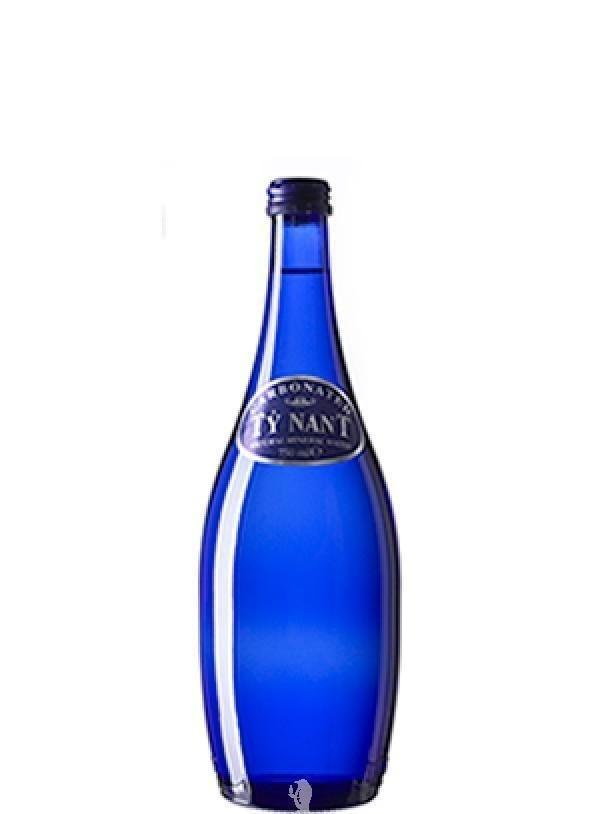bottle-glass: (194, 172, 407, 813)
